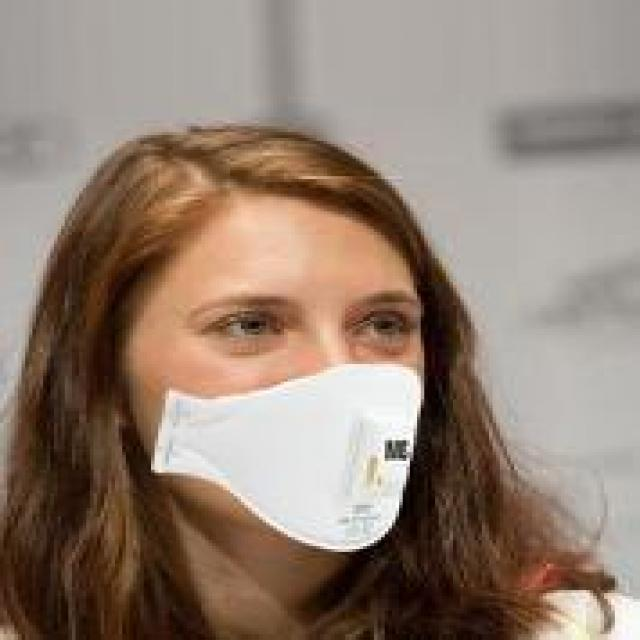mask: (39, 76, 540, 564)
